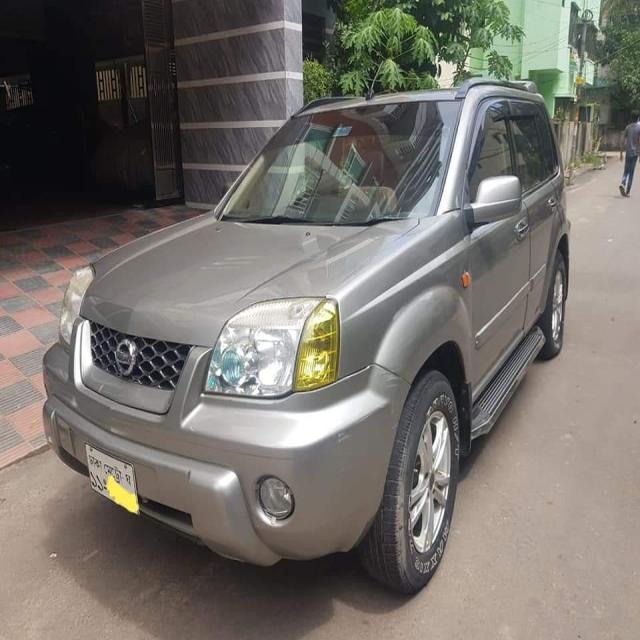silver: (32, 94, 584, 588)
